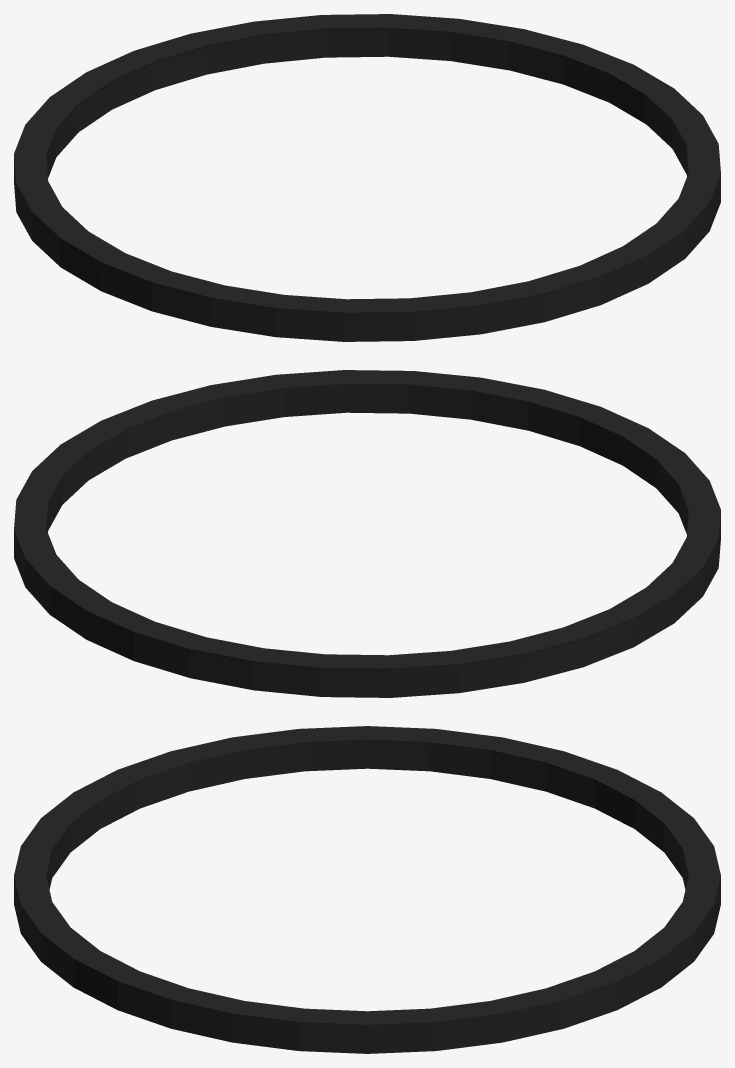
The model's file is field.obj.
3 renders of one model, top to bottom at view 1: azimuth 30°, elevation 25°; view 2: azimuth 150°, elevation 25°; view 3: azimuth 270°, elevation 25°, orthographic.
Parts seen in each view (by area): view 1: 円柱.001; view 2: 円柱.001; view 3: 円柱.001.
Part boxes in pixels (x1=…): 円柱.001: x1=14, y1=14, x2=720, y2=341; 円柱.001: x1=14, y1=370, x2=720, y2=697; 円柱.001: x1=14, y1=726, x2=720, y2=1053.
Size of what is drawn, in the model's own units: 22 by 1 by 22.
1 material, 1 textured.
